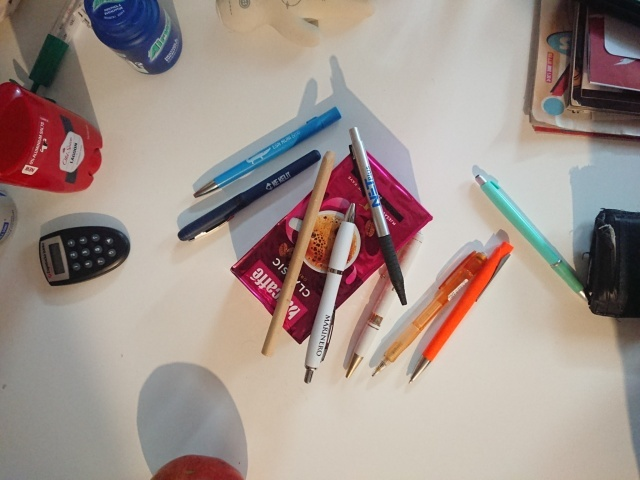Barcaffe Classic Original 225g: (227, 142, 436, 347)
